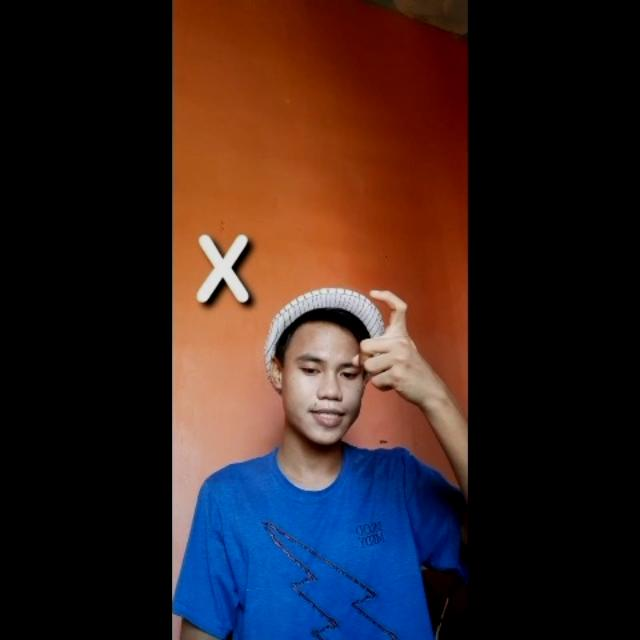X: (351, 286, 435, 400)
